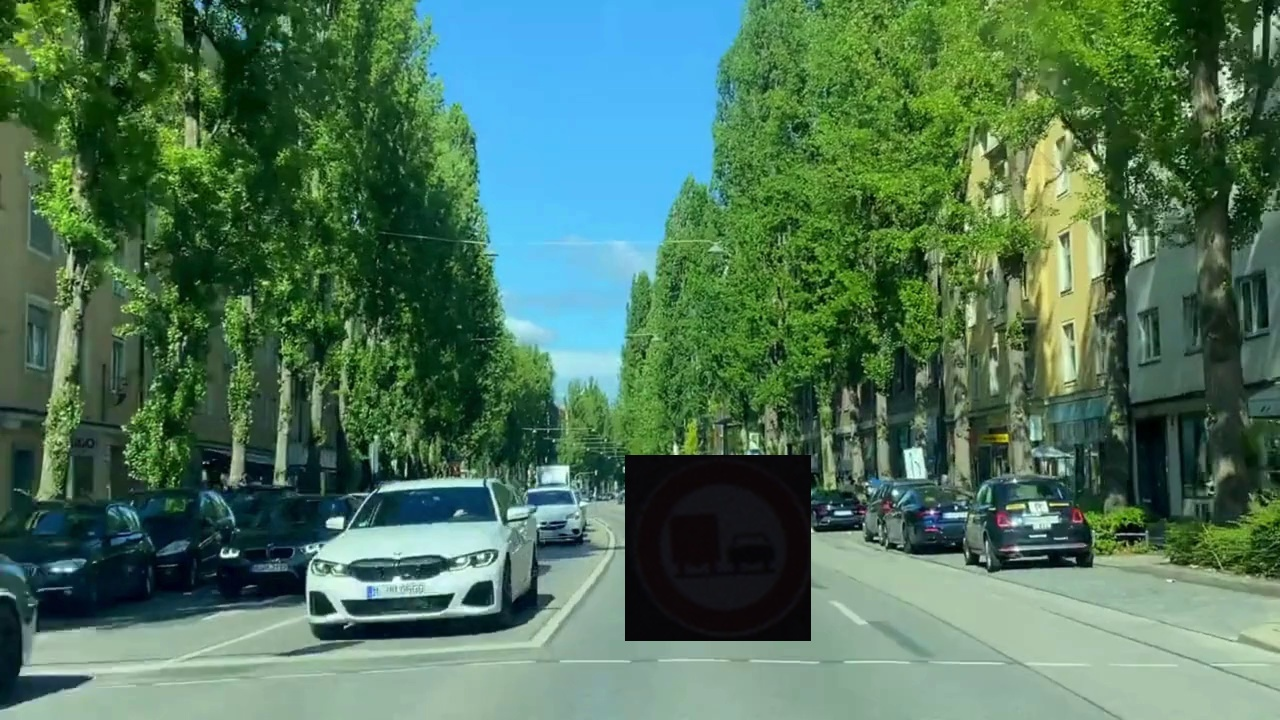No pass >3.5t: (625, 455, 811, 641)
